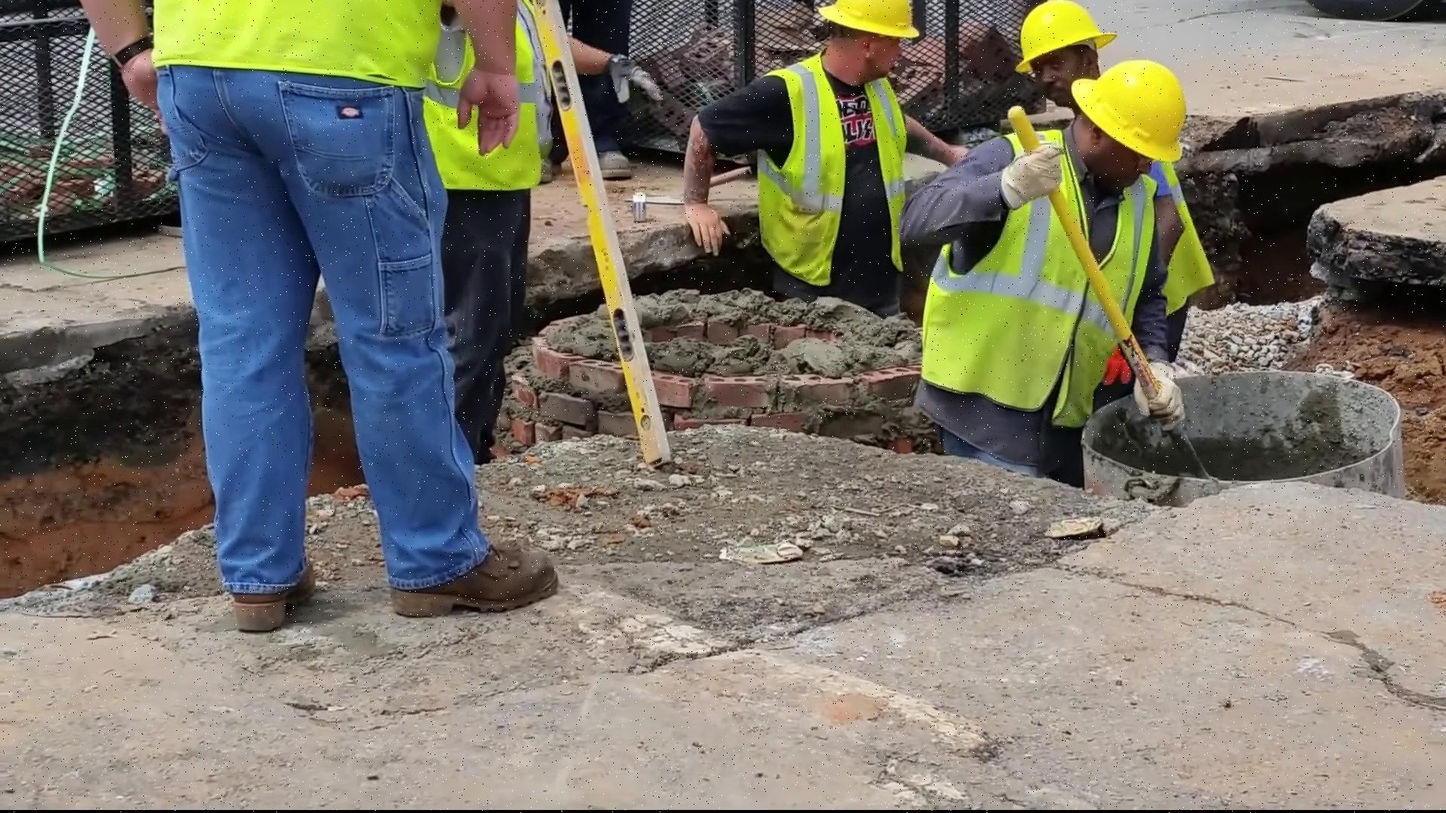Hard_hat: (1084, 60, 1209, 147), (1006, 0, 1108, 63), (803, 0, 937, 40)
Vest: (916, 138, 1184, 439), (747, 63, 913, 299), (149, 0, 457, 84), (426, 10, 554, 187)
